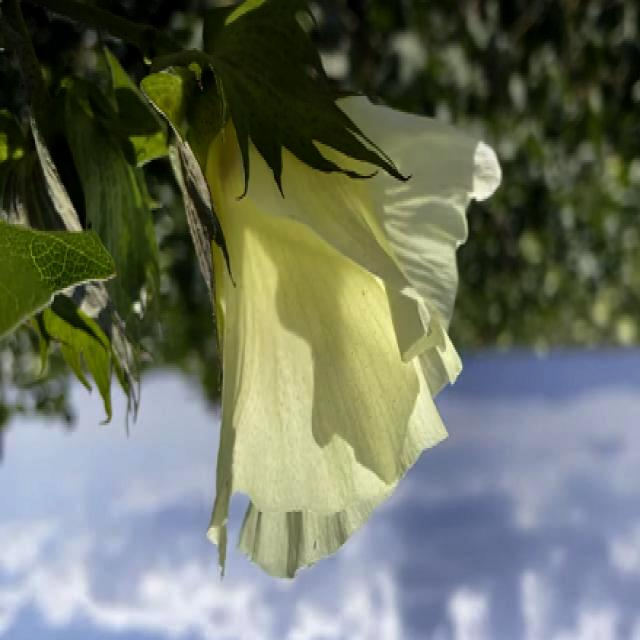Cotton Blossom: (170, 20, 502, 580)
Cotton Bud: (4, 61, 156, 428)
